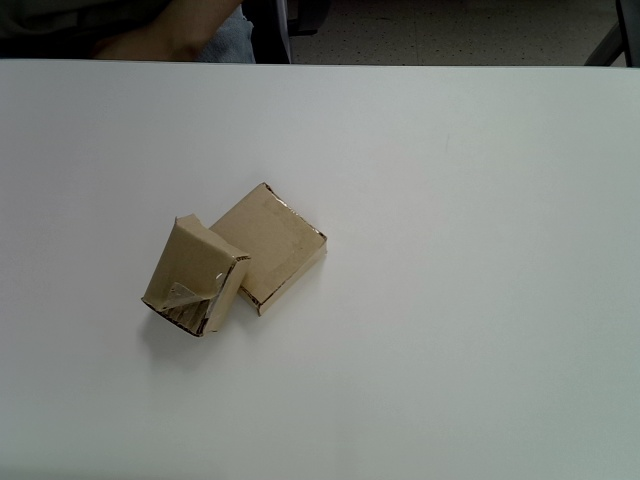defect: (141, 215, 250, 336)
normal: (208, 183, 328, 317)
